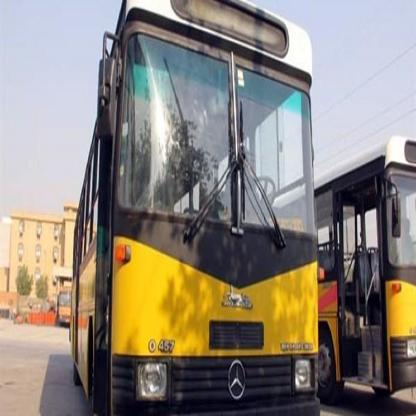Bus: (70, 0, 318, 416), (316, 123, 416, 416), (54, 282, 75, 329)
